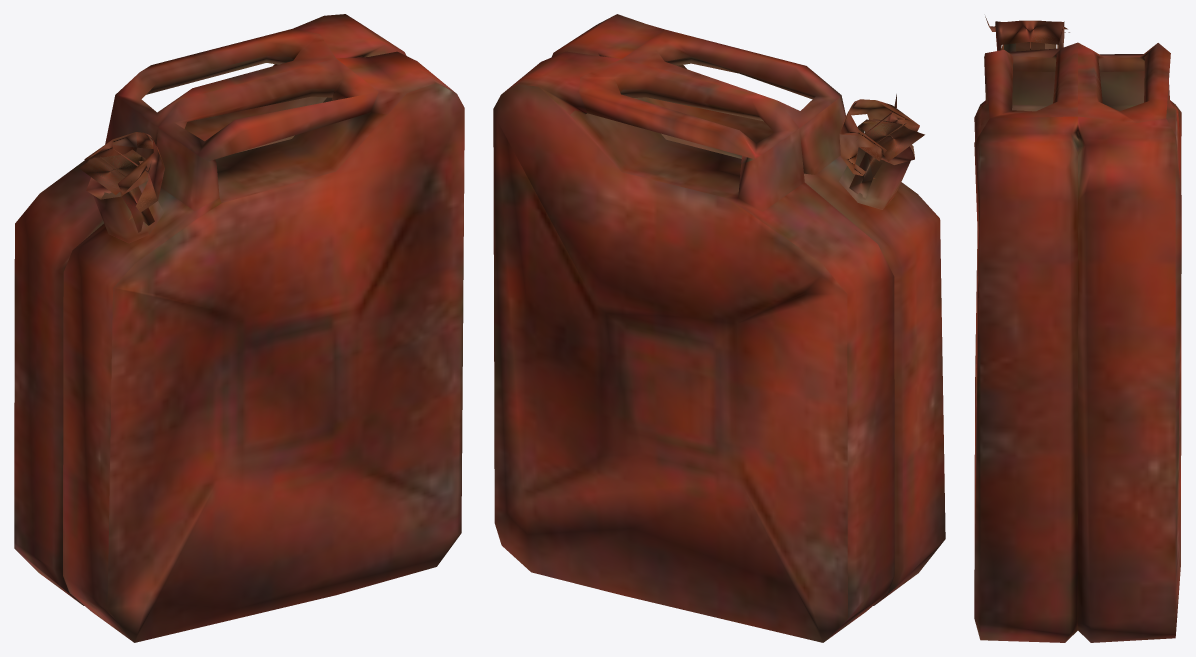
File: jerrycan.glb
3 views of the same model, side by side, from view 1: azimuth 30°, elevation 25°; view 2: azimuth 150°, elevation 25°; view 3: azimuth 270°, elevation 25° (orthographic). The views are drawn at different scales.
Parts seen in each view (by area): view 1: jerrycan; view 2: jerrycan; view 3: jerrycan.
Part boxes in pixels (left/top/right/bottom): jerrycan: left=14, top=14, right=464, bottom=642; jerrycan: left=493, top=14, right=945, bottom=642; jerrycan: left=974, top=16, right=1181, bottom=642.
Size of the model in its own units: 0.3481 by 0.4524 by 0.1692.
Materials: 1 (1 with a texture image).
